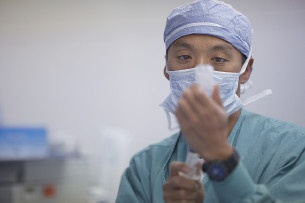Mask: (165, 41, 248, 124)
